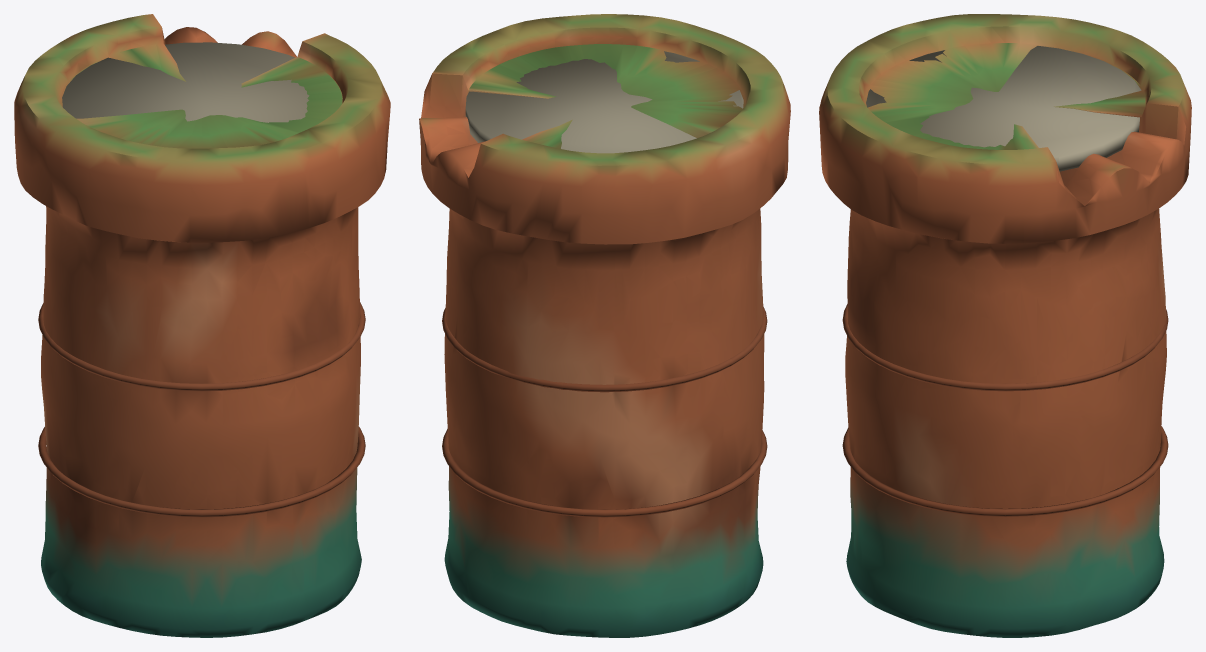
Rendered from grotto_clay_pipe_b.glb.
The picture shows the model from 3 angles, left to right: view 1: azimuth 30°, elevation 25°; view 2: azimuth 150°, elevation 25°; view 3: azimuth 270°, elevation 25°; orthographic projection.
Visible parts, largest first — view 1: grotto_clay_pipe_b; view 2: grotto_clay_pipe_b; view 3: grotto_clay_pipe_b.
Boxes of the visible parts, left/top/right/bottom form: grotto_clay_pipe_b: left=14, top=14, right=390, bottom=637; grotto_clay_pipe_b: left=419, top=14, right=790, bottom=637; grotto_clay_pipe_b: left=819, top=14, right=1191, bottom=637.
Bounding box in the file's own units: 6.99 × 10.05 × 7.
